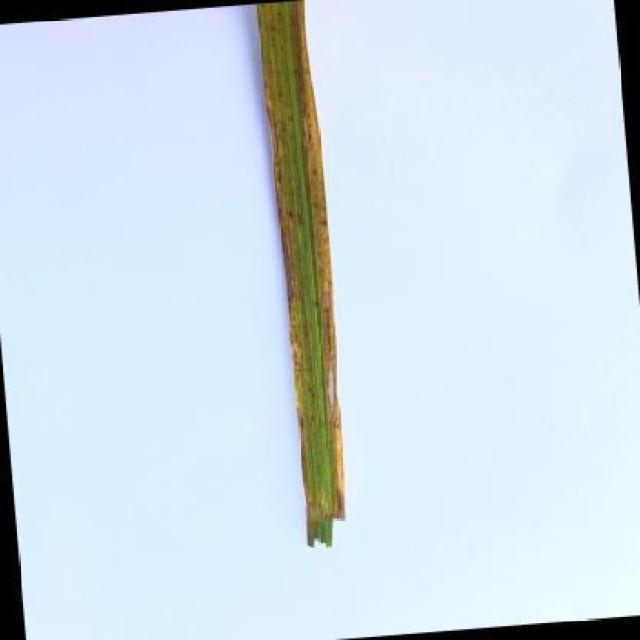Rice False Smut: (257, 2, 345, 546)
